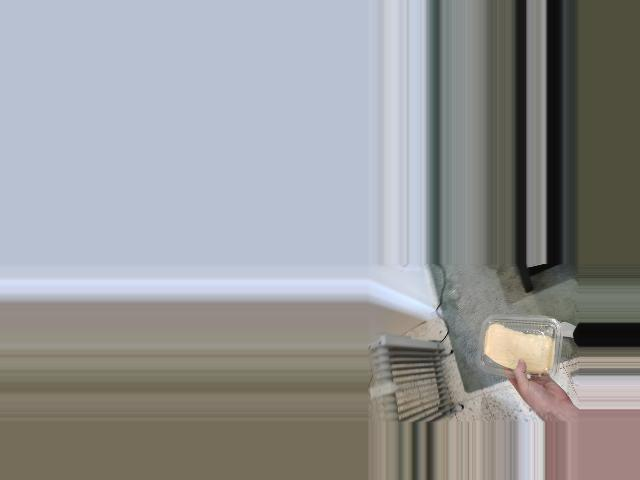cheese: (474, 316, 561, 380)
